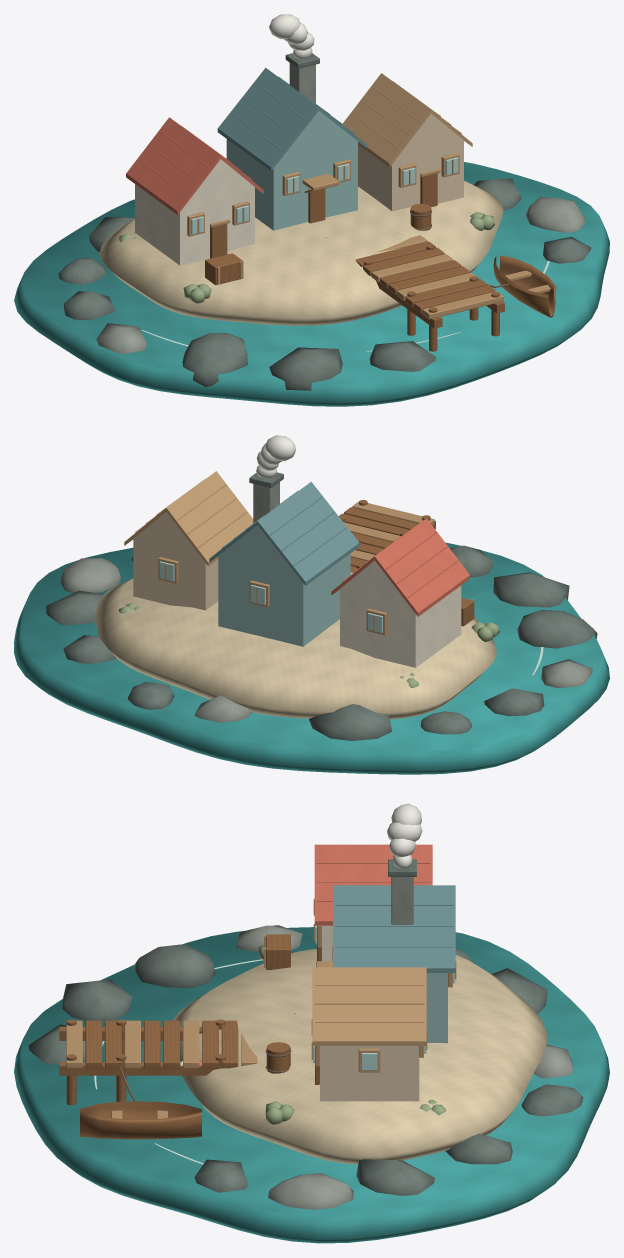
Rendered from fishing-village-v3.glb.
3 views of the same model, one above another, from view 1: azimuth 30°, elevation 25°; view 2: azimuth 150°, elevation 25°; view 3: azimuth 270°, elevation 25° (orthographic). The views are drawn at different scales.
Visible parts, largest first — view 1: Village | collectible export; view 2: Village | collectible export; view 3: Village | collectible export.
Part boxes in pixels (x1,y1,x2,y2): Village | collectible export: (14, 14, 609, 406); Village | collectible export: (14, 435, 609, 774); Village | collectible export: (14, 803, 609, 1243).
Bounding box in the file's own units: 1.71 × 0.7825 × 1.44.
17 materials, 7 textured.
